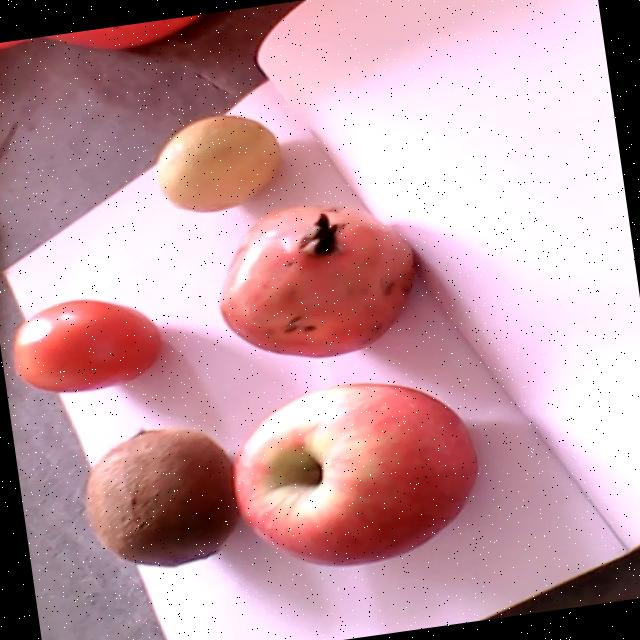apple: (231, 382, 477, 566)
kiwi: (85, 428, 240, 566)
lemon: (156, 115, 280, 212)
pomegranate: (218, 205, 415, 358)
tomato: (13, 299, 161, 392)
